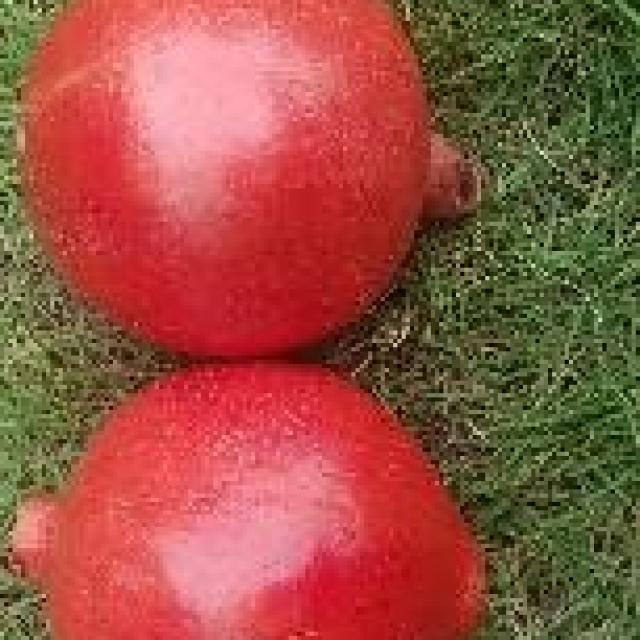Good_Pomegranate-50-60-days: (4, 0, 489, 640)
